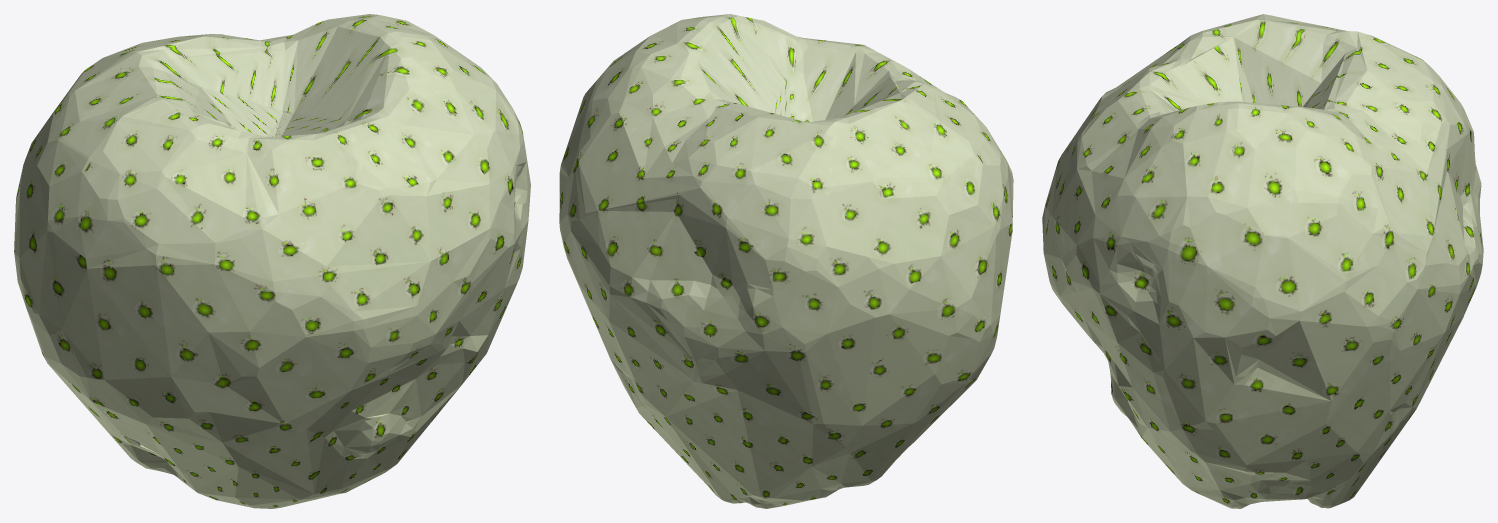
3 views of the same model, side by side, from view 1: azimuth 30°, elevation 25°; view 2: azimuth 150°, elevation 25°; view 3: azimuth 270°, elevation 25° (orthographic). The views are drawn at different scales.
Visible parts, largest first — view 1: _002_Meshed; view 2: _002_Meshed; view 3: _002_Meshed.
Part boxes in pixels (<box>): _002_Meshed: <box>14,14,530,508</box>; _002_Meshed: <box>559,14,1013,508</box>; _002_Meshed: <box>1042,14,1483,508</box>.
Size of the model in its own units: 0.1 by 0.0879 by 0.0956.
1 material, 1 textured.
